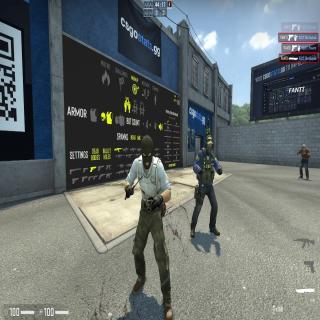CT-Body: (134, 136, 166, 308), (195, 135, 216, 236)
CT-Head: (140, 135, 154, 164), (206, 135, 213, 154)
T-Body: (299, 143, 309, 180)
T-Head: (301, 144, 305, 152)
